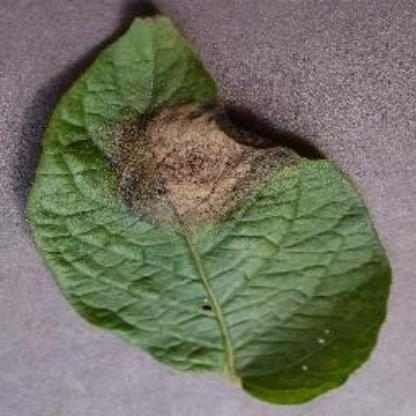Late-Blight: (24, 11, 398, 405)
